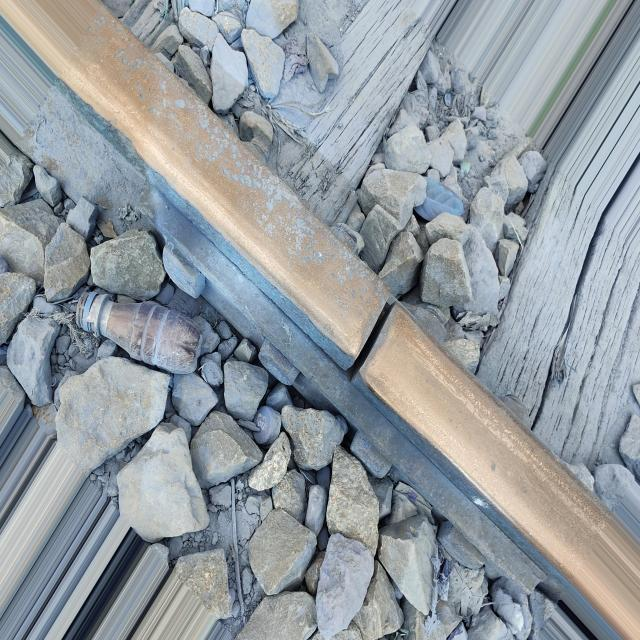crack: (325, 293, 414, 393)
